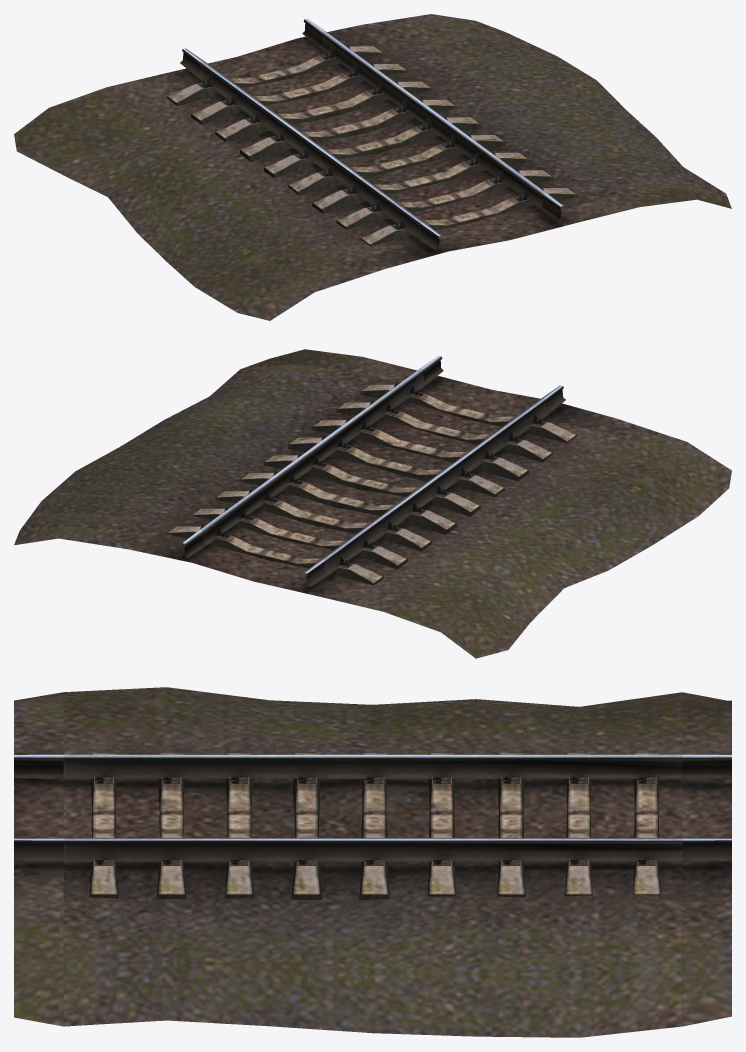
File: 1track_5_TSM.gltf
3 views of the same model, one above another, from view 1: azimuth 30°, elevation 25°; view 2: azimuth 150°, elevation 25°; view 3: azimuth 270°, elevation 25° (orthographic). The views are drawn at different scales.
Bounding box in the file's own units: 6.7 × 0.6105 × 5.8.
Materials: 1 (1 with a texture image).
